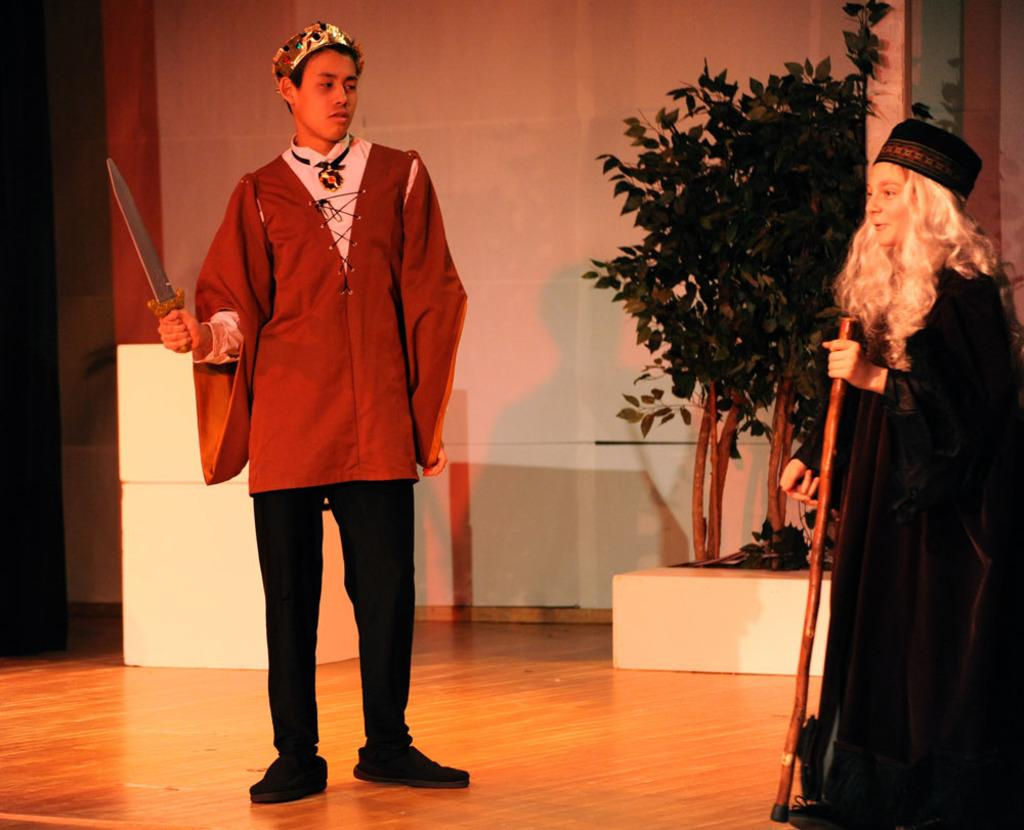knife: (106, 160, 186, 311)
non-violence: (166, 16, 481, 814), (794, 123, 1024, 830)
